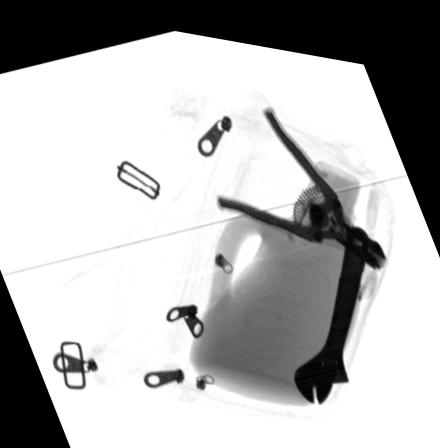Pliers: (217, 97, 388, 256)
Wrench: (293, 213, 368, 393)
